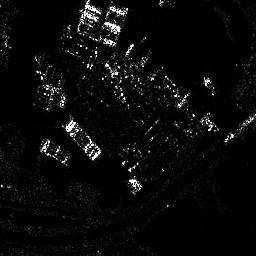ship: (224, 111, 256, 141)
